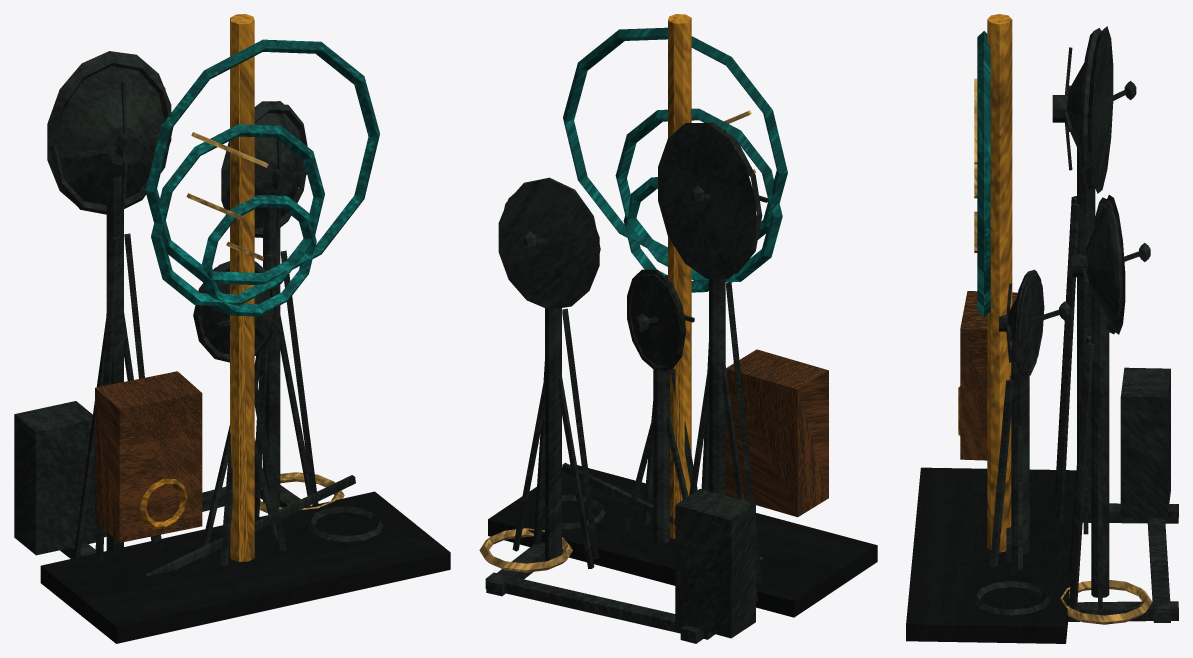
The model's file is west-echo-array.glb.
3 renders of one model, left to right at view 1: azimuth 30°, elevation 25°; view 2: azimuth 150°, elevation 25°; view 3: azimuth 270°, elevation 25°, orthographic. The views are drawn at different scales.
Visible parts, largest first — view 1: west-echo-array; view 2: west-echo-array; view 3: west-echo-array.
Part boxes in pixels (<box>): west-echo-array: <box>14,14,450,643</box>; west-echo-array: <box>479,14,877,643</box>; west-echo-array: <box>906,14,1178,643</box>.
Size of the model in its own units: 4.83 by 7.75 by 3.49.
1 material, 1 textured.
